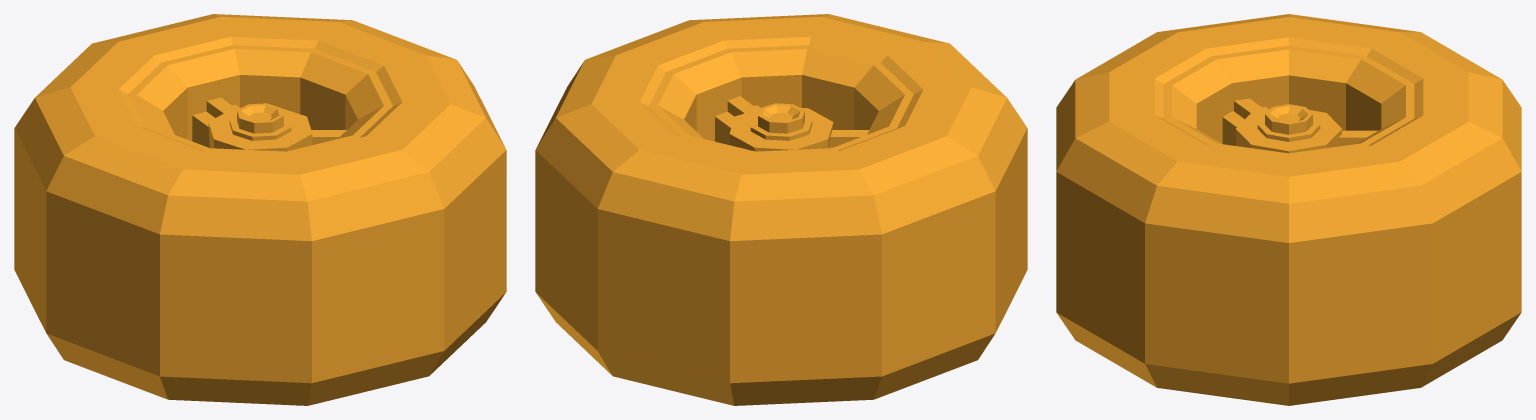
Rendered from SM_Wheel_Single_Racing_Gokart.fbx.
3 renders of one model, left to right at view 1: azimuth 30°, elevation 25°; view 2: azimuth 150°, elevation 25°; view 3: azimuth 270°, elevation 25°, orthographic.
Parts seen in each view (by area): view 1: SM_Wheel_Single_Racing_Gokart; view 2: SM_Wheel_Single_Racing_Gokart; view 3: SM_Wheel_Single_Racing_Gokart.
Boxes of the visible parts, bbox=[...] form: SM_Wheel_Single_Racing_Gokart: bbox=[14, 14, 506, 405]; SM_Wheel_Single_Racing_Gokart: bbox=[535, 14, 1027, 405]; SM_Wheel_Single_Racing_Gokart: bbox=[1056, 14, 1521, 405].
Size of the model in its own units: 0.3574 by 0.1821 by 0.3399.
